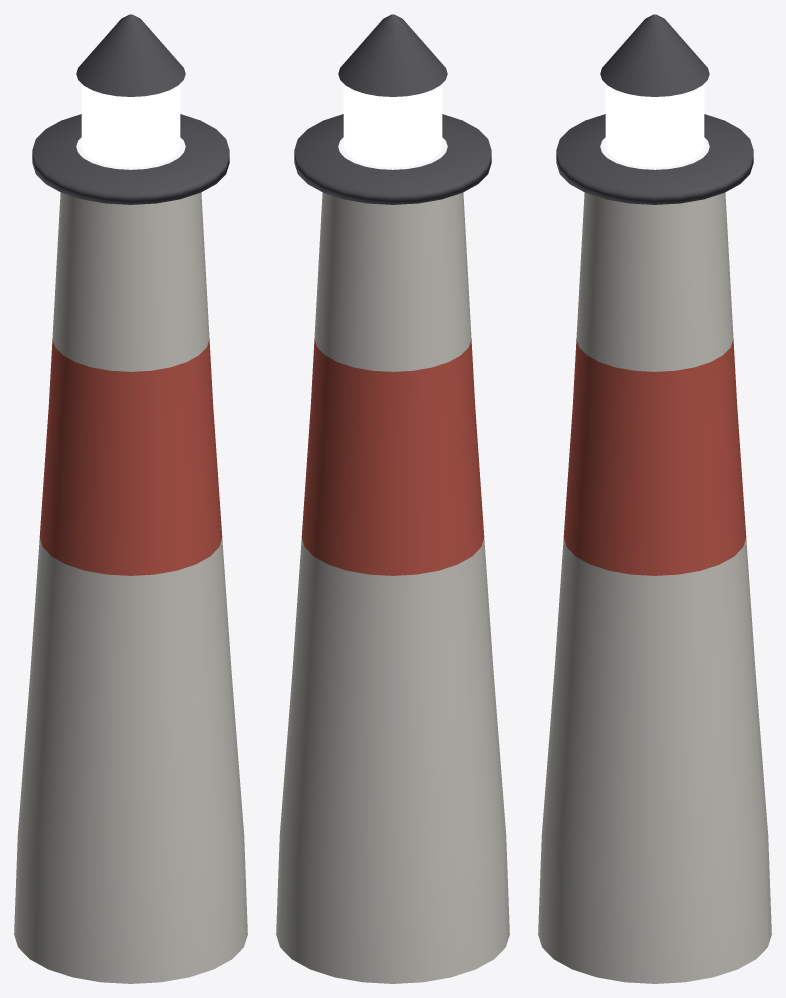
File: lighthouse.glb
3 renders of one model, left to right at view 1: azimuth 30°, elevation 25°; view 2: azimuth 150°, elevation 25°; view 3: azimuth 270°, elevation 25°, orthographic.
Visible parts, largest first — view 1: Lighthouse; view 2: Lighthouse; view 3: Lighthouse.
Boxes of the visible parts, x1,y1,x2,y2 form: Lighthouse: (14,14,247,983); Lighthouse: (276,14,509,983); Lighthouse: (538,14,771,983).
Size of the model in its own units: 6.4 by 27.8 by 6.4.
